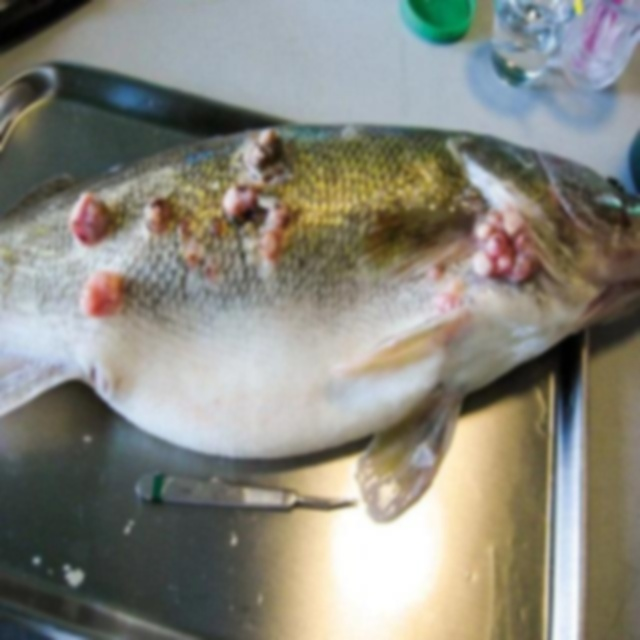EUS Disease: (3, 121, 640, 511), (19, 122, 373, 323), (413, 182, 550, 338)
